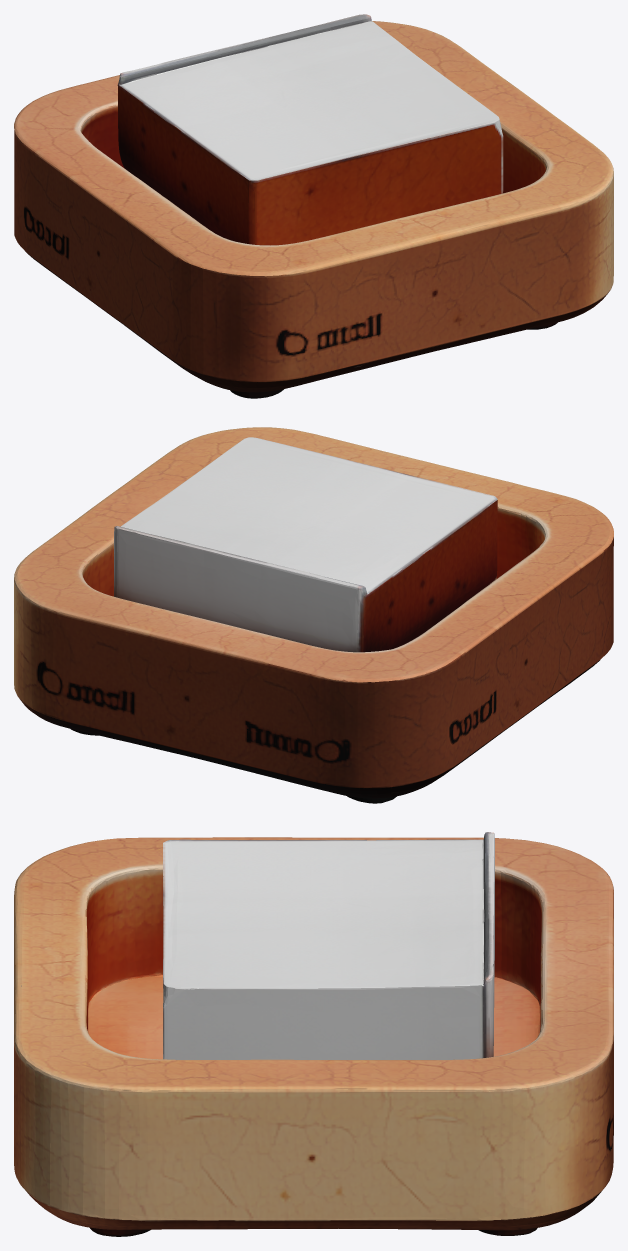
Rendered from cork-playing-card-holder-new-style.jpeg.glb.
3 views of the same model, one above another, from view 1: azimuth 30°, elevation 25°; view 2: azimuth 150°, elevation 25°; view 3: azimuth 270°, elevation 25° (orthographic). The views are drawn at different scales.
Parts seen in each view (by area): view 1: world; view 2: world; view 3: world.
Boxes of the visible parts, x1=… form: world: x1=14, y1=14, x2=613, y2=398; world: x1=14, y1=427, x2=613, y2=803; world: x1=14, y1=832, x2=613, y2=1236.
Size of the model in its own units: 1 by 0.4419 by 1.
1 material, 1 textured.
